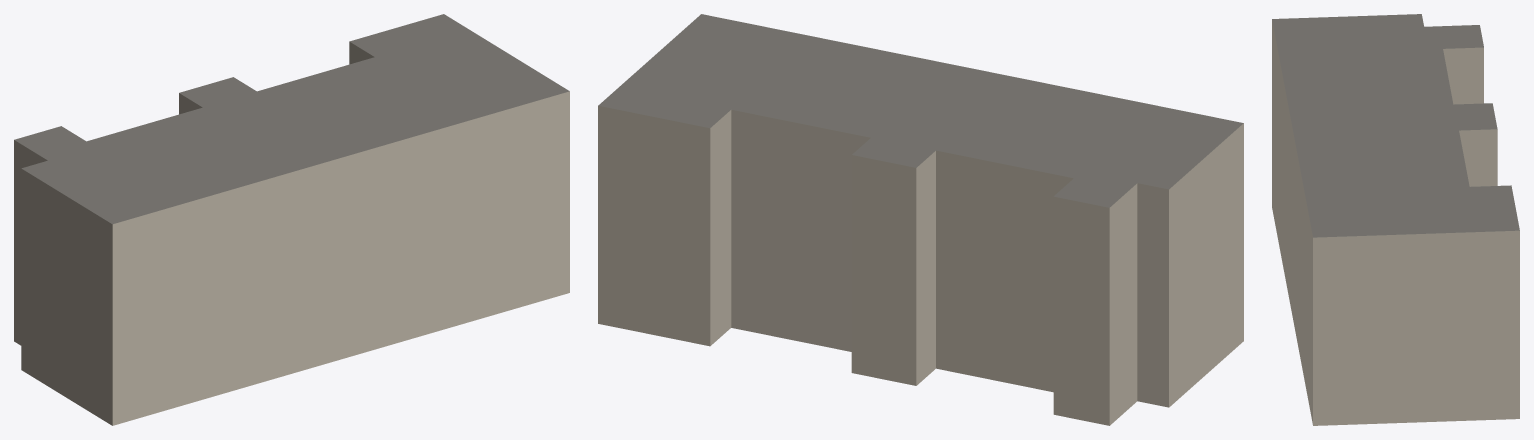
3 views of the same model, side by side, from view 1: azimuth 30°, elevation 25°; view 2: azimuth 150°, elevation 25°; view 3: azimuth 270°, elevation 25° (orthographic). The views are drawn at different scales.
Visible parts, largest first — view 1: HP-w729793446; view 2: HP-w729793446; view 3: HP-w729793446.
Part boxes in pixels (bbox=[...]): HP-w729793446: bbox=[14, 14, 569, 425]; HP-w729793446: bbox=[598, 14, 1243, 425]; HP-w729793446: bbox=[1272, 14, 1519, 425].
Size of the model in its own units: 45.83 by 18 by 21.48.
